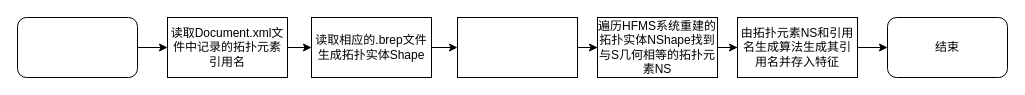
Image size: 1025x95. Some labels were removed from this diagram. The shapes that lost their labels are listed below. From the top down, each one's box as (x1, y1, x2, y2) in pixels, then its label:
(16, 16, 138, 78): 开始
(456, 16, 578, 78): 根据引用名获取Shape中的拓扑元素S
